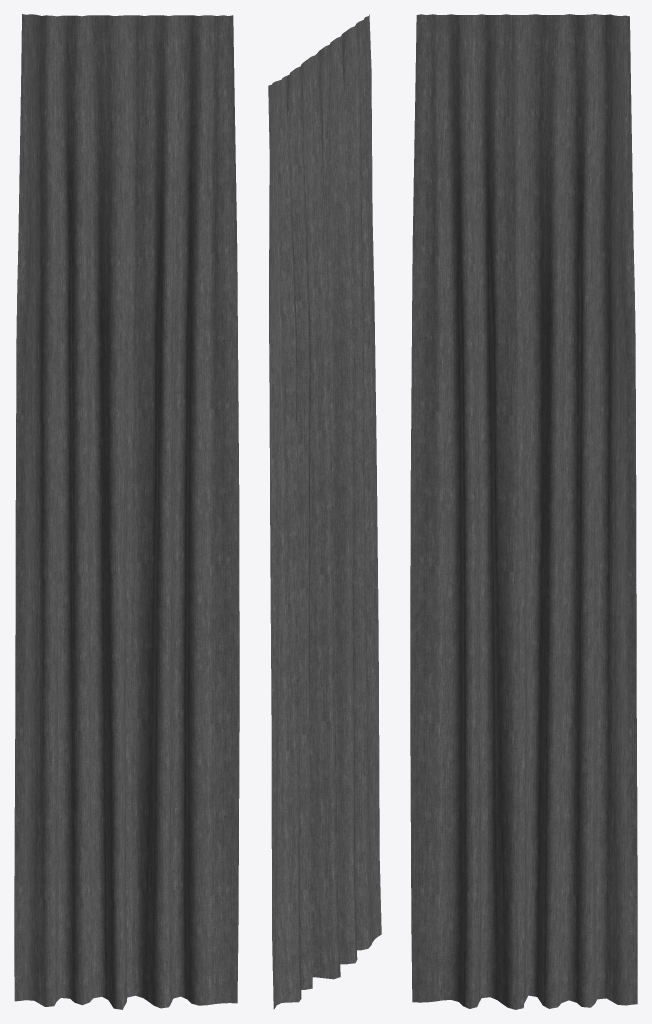
The model's file is Textile_curtain_02.glb.
3 renders of one model, left to right at view 1: azimuth 90°, elevation 25°; view 2: azimuth 150°, elevation 25°; view 3: azimuth 270°, elevation 25°, orthographic. The views are drawn at different scales.
Visible parts, largest first — view 1: curtain_02; view 2: curtain_02; view 3: curtain_02.
Boxes of the visible parts, x1,y1,x2,y2 form: curtain_02: [14, 14, 239, 1009]; curtain_02: [268, 14, 381, 1009]; curtain_02: [410, 14, 637, 1009].
Size of the model in its own units: 0.1247 by 3.47 by 0.7212.
Materials: 1 (1 with a texture image).
